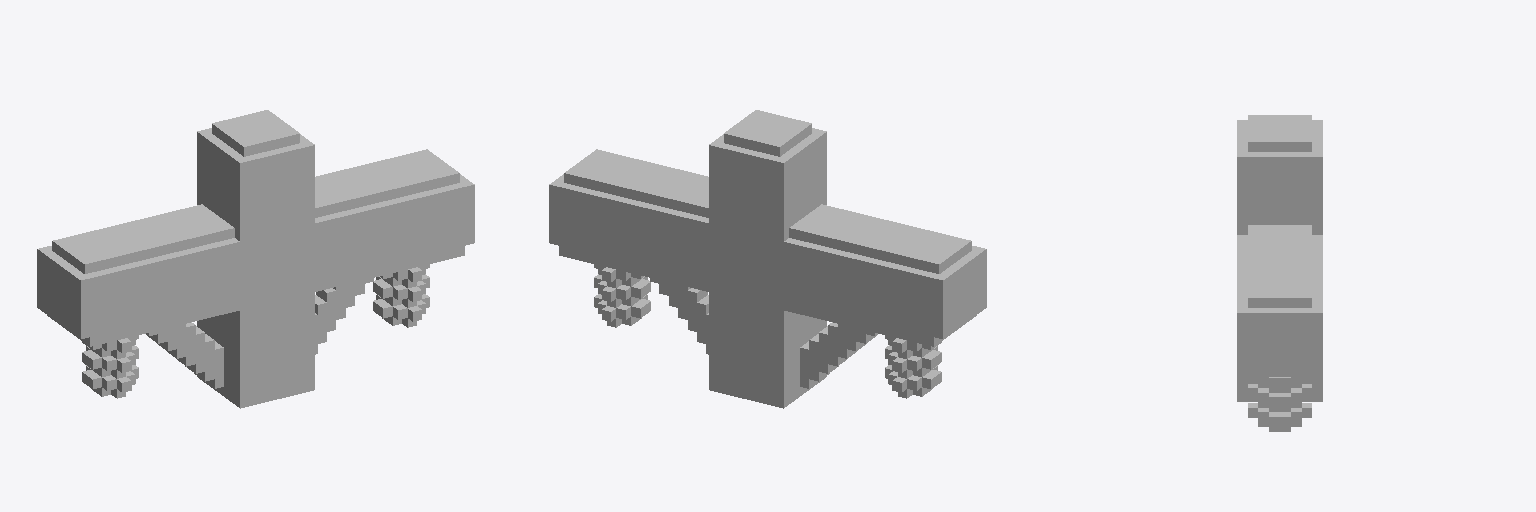
File: eletric_post_-_copia_42x26x8.obj
3 views of the same model, side by side, from view 1: azimuth 30°, elevation 25°; view 2: azimuth 150°, elevation 25°; view 3: azimuth 270°, elevation 25° (orthographic).
Size of the model in its own units: 10.24 by 6.34 by 1.95.